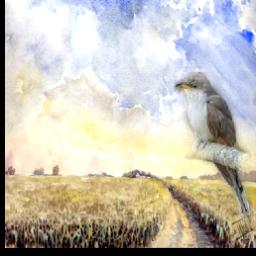Cuckoo: (175, 72, 253, 224)
